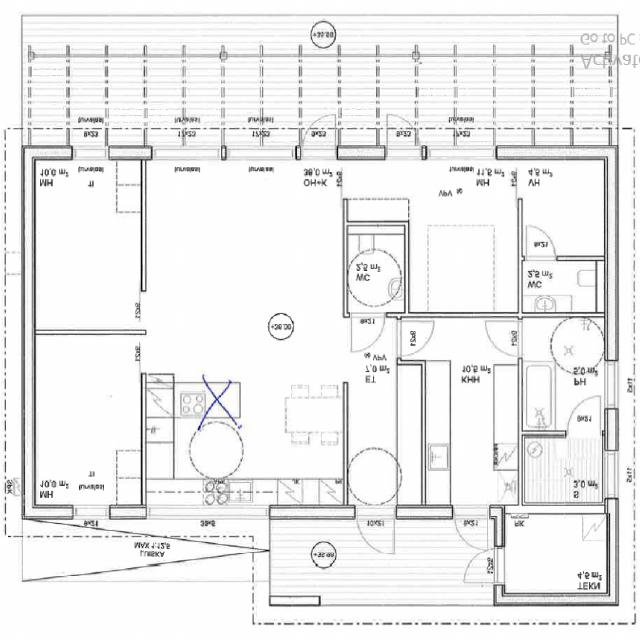door: (357, 506, 395, 560), (301, 110, 336, 160), (454, 506, 488, 556), (387, 110, 420, 160), (461, 548, 505, 582), (351, 313, 386, 353), (485, 321, 523, 357), (397, 321, 436, 356), (568, 396, 601, 436), (526, 225, 556, 261)
